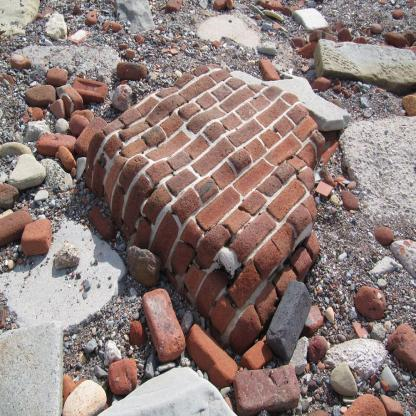brick: (24, 61, 339, 411), (291, 5, 416, 115), (0, 210, 52, 258), (349, 284, 386, 338), (344, 392, 404, 415), (108, 358, 136, 393), (260, 0, 304, 19), (319, 170, 358, 188), (62, 377, 88, 404), (306, 336, 329, 366), (116, 61, 148, 81), (258, 59, 282, 82), (304, 304, 323, 331), (7, 52, 32, 72), (1, 182, 20, 208), (31, 5, 53, 26), (374, 226, 394, 245), (360, 22, 383, 38), (68, 29, 91, 44), (341, 193, 360, 209), (164, 0, 183, 14), (211, 1, 233, 12), (86, 10, 97, 24), (102, 20, 113, 34), (163, 47, 180, 55), (391, 9, 404, 19), (134, 33, 145, 43), (125, 49, 135, 59), (210, 40, 222, 48), (297, 67, 310, 74), (113, 23, 122, 33), (117, 43, 128, 49), (271, 22, 278, 30), (180, 45, 185, 50)
